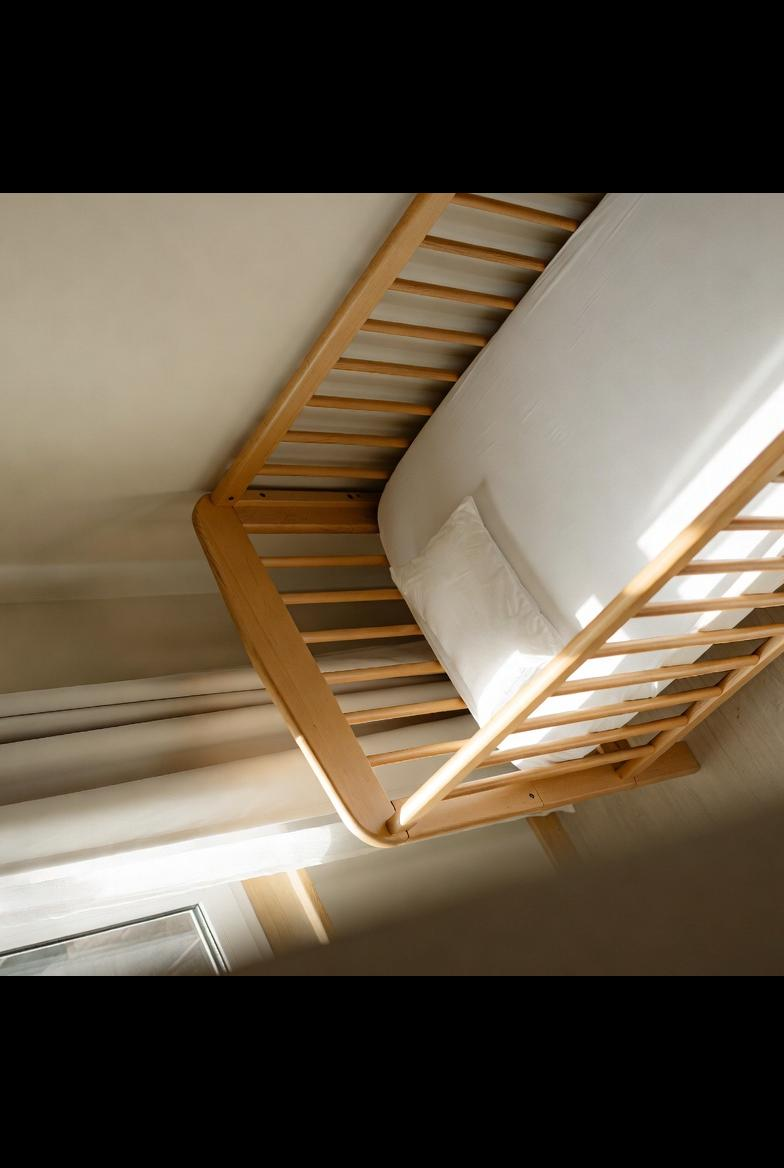crib: (194, 192, 784, 845)
